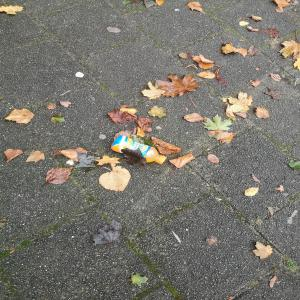Plastic-bottle: (110, 135, 173, 169)
